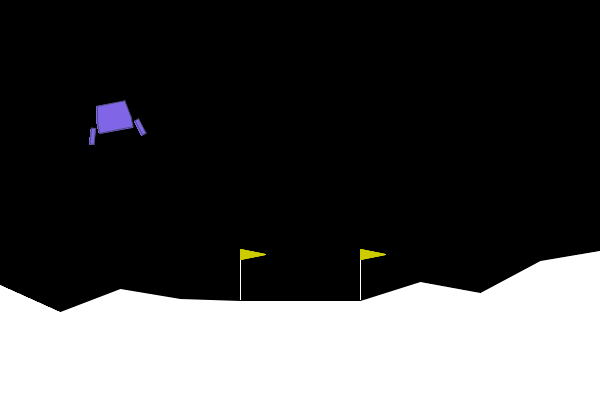lander: (81, 96, 147, 147)
